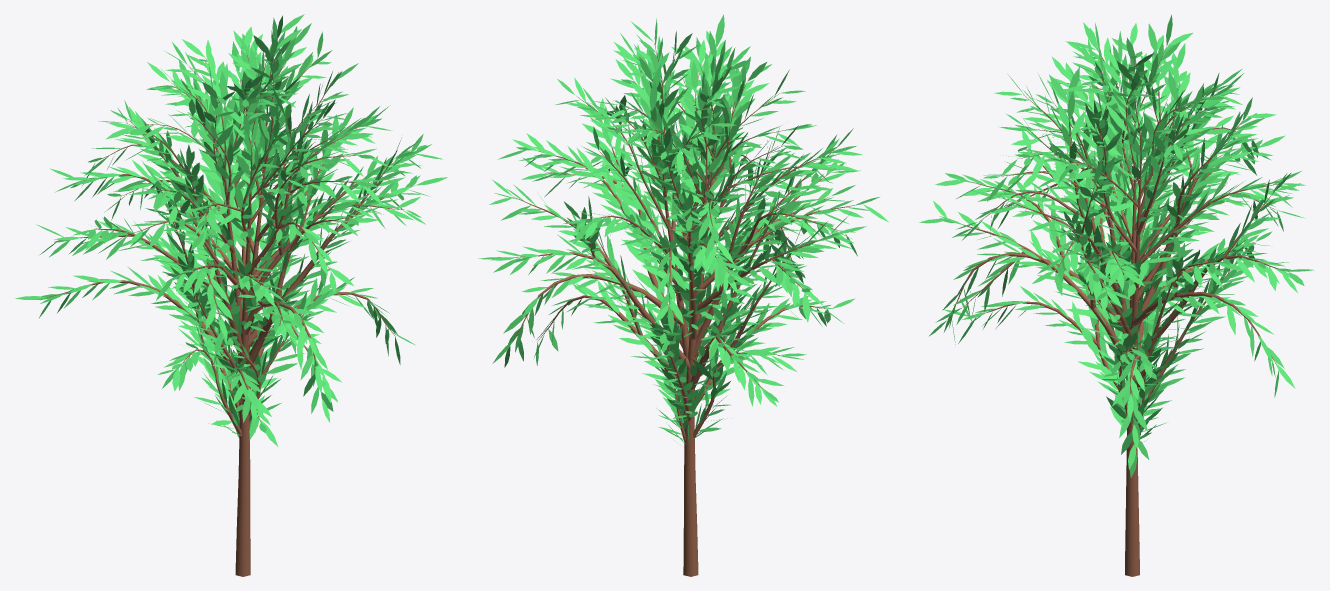
Rendered from Tree-1.fbx.
3 views of the same model, side by side, from view 1: azimuth 30°, elevation 25°; view 2: azimuth 150°, elevation 25°; view 3: azimuth 270°, elevation 25° (orthographic).
Visible parts, largest first — view 1: leaves.003, tree.003; view 2: leaves.003, tree.003; view 3: leaves.003, tree.003.
Boxes of the visible parts, bbox=[...] form: leaves.003: bbox=[15, 14, 447, 446]; tree.003: bbox=[47, 54, 414, 576]; leaves.003: bbox=[478, 14, 888, 443]; tree.003: bbox=[512, 43, 854, 576]; leaves.003: bbox=[919, 14, 1314, 477]; tree.003: bbox=[947, 46, 1288, 576].
Bounding box in the file's own units: 476 × 700 × 455.
